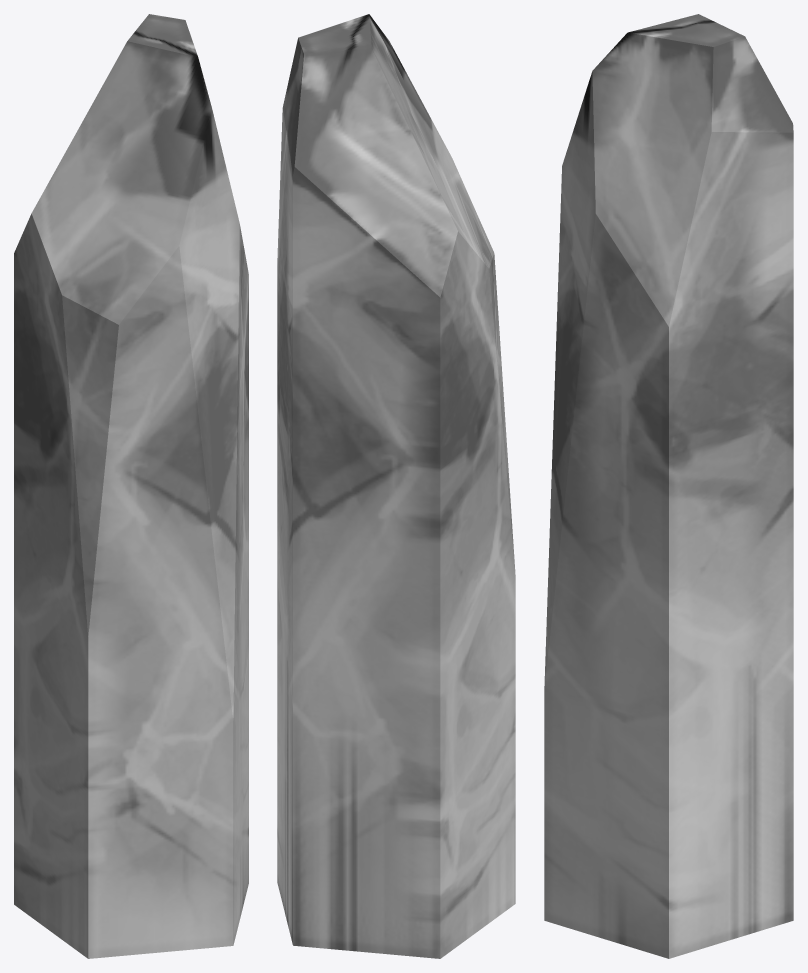
Rendered from Crystal05.fbx.
3 views of the same model, side by side, from view 1: azimuth 30°, elevation 25°; view 2: azimuth 150°, elevation 25°; view 3: azimuth 270°, elevation 25° (orthographic). The views are drawn at different scales.
Parts seen in each view (by area): view 1: Crystal05; view 2: Crystal05; view 3: Crystal05.
Part boxes in pixels (left/top/right/bottom): Crystal05: left=14, top=14, right=248, bottom=958; Crystal05: left=277, top=14, right=515, bottom=958; Crystal05: left=544, top=14, right=793, bottom=958.
Size of the model in its own units: 0.6585 by 2.73 by 0.6924.
